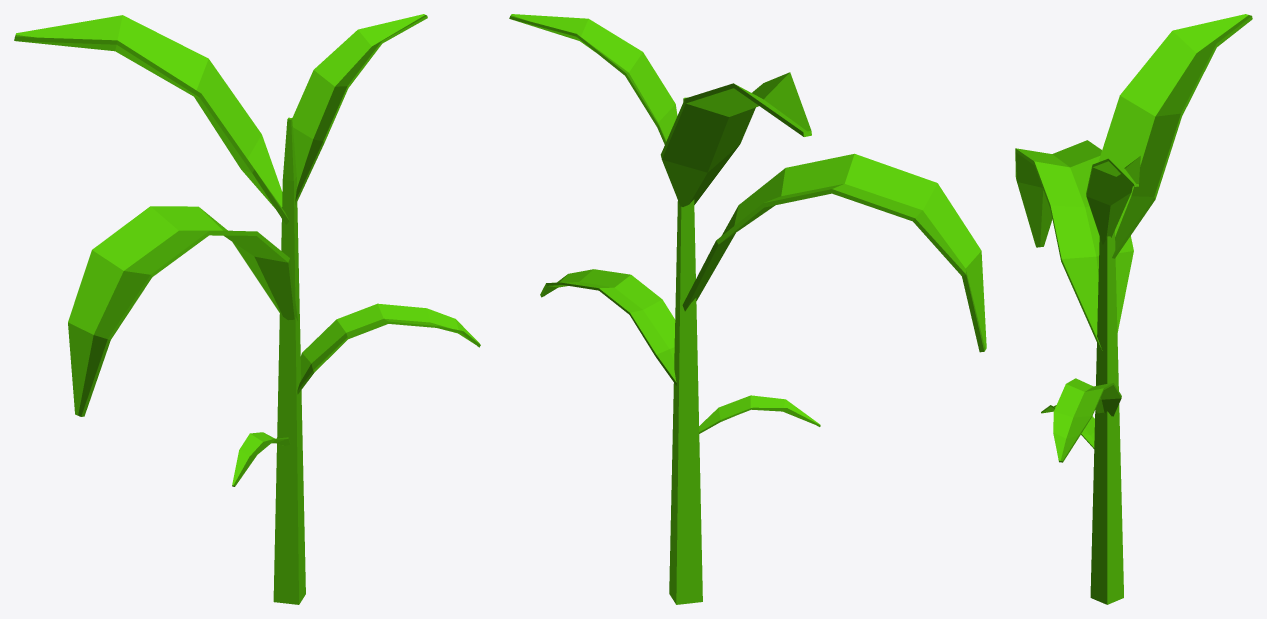
Rendered from corn_low_01.fbx.
The picture shows the model from 3 angles, left to right: view 1: azimuth 30°, elevation 25°; view 2: azimuth 150°, elevation 25°; view 3: azimuth 270°, elevation 25°; orthographic projection. The views are drawn at different scales.
Parts seen in each view (by area): view 1: Cube; view 2: Cube; view 3: Cube.
Part boxes in pixels (bbox=[...]): Cube: bbox=[14, 14, 480, 604]; Cube: bbox=[509, 14, 986, 604]; Cube: bbox=[1015, 14, 1252, 604].
Size of the model in its own units: 54.44 by 70.64 by 29.97.
